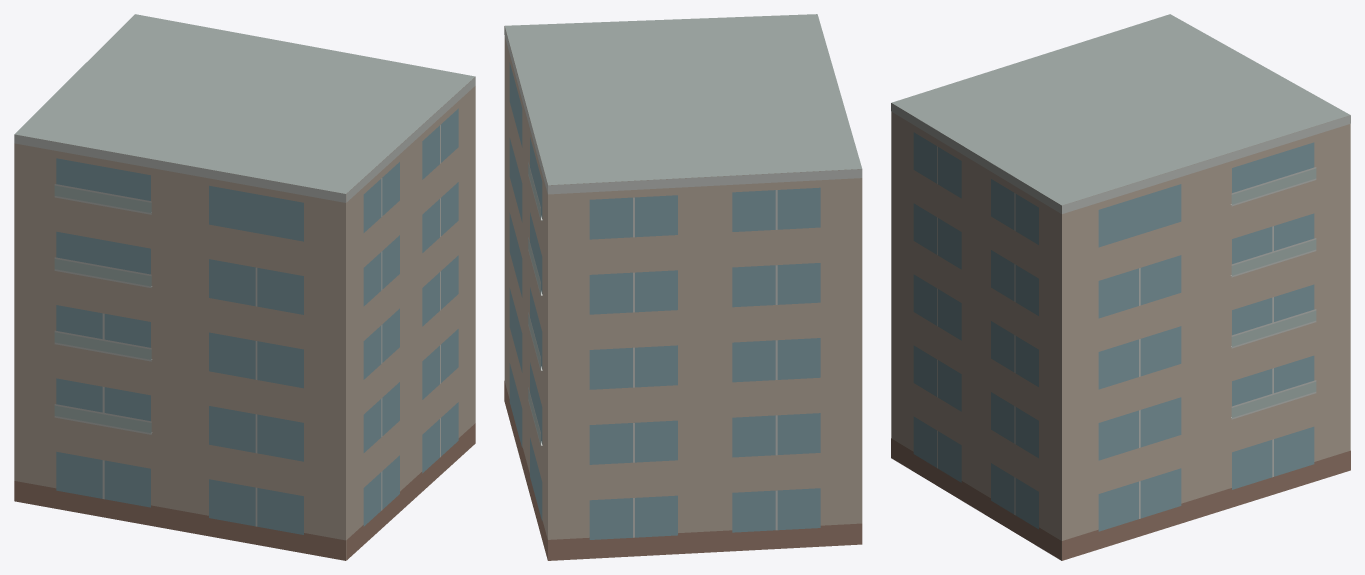
Rendered from survey-upis-33005240.glb.
3 renders of one model, left to right at view 1: azimuth 30°, elevation 25°; view 2: azimuth 150°, elevation 25°; view 3: azimuth 270°, elevation 25°, orthographic. The views are drawn at different scales.
Visible parts, largest first — view 1: survey-upis-33005240.tmp; view 2: survey-upis-33005240.tmp; view 3: survey-upis-33005240.tmp.
Part boxes in pixels (x1,y1,x2,y2): survey-upis-33005240.tmp: (14, 14, 475, 560); survey-upis-33005240.tmp: (504, 14, 862, 560); survey-upis-33005240.tmp: (891, 14, 1350, 560).
Bounding box in the file's own units: 11.51 × 9.95 × 11.67.
